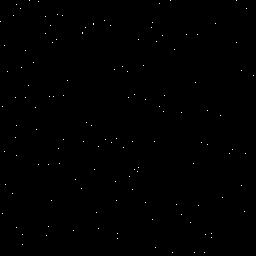n: (39, 138, 145, 234), (40, 0, 140, 100), (144, 29, 214, 97), (143, 168, 209, 234)
